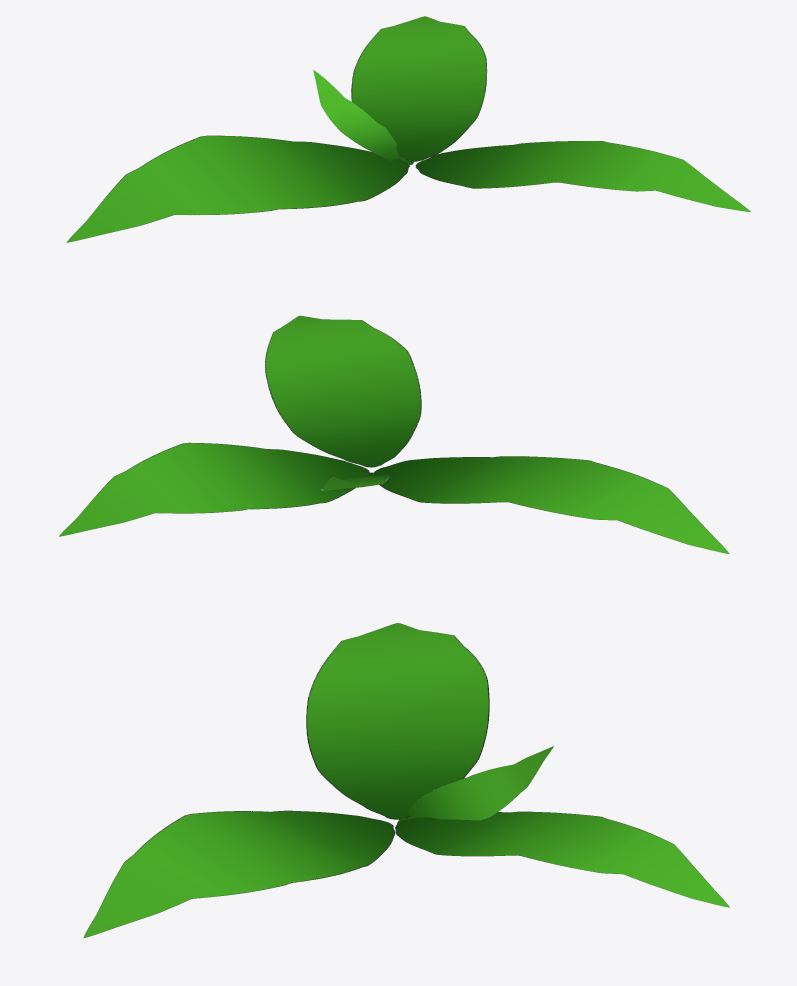
File: Grass2.fbx
3 renders of one model, top to bottom at view 1: azimuth 30°, elevation 25°; view 2: azimuth 150°, elevation 25°; view 3: azimuth 270°, elevation 25°, orthographic. The views are drawn at different scales.
Visible parts, largest first — view 1: grass2, grass2.001, grass2.002, grass2.003; view 2: grass2.002, grass2, grass2.001, grass2.003; view 3: grass2, grass2.002, grass2.001, grass2.003.
Boxes of the visible parts, x1=… form: grass2: x1=66, y1=135, x2=409, y2=242; grass2.001: x1=351, y1=16, x2=487, y2=161; grass2.002: x1=415, y1=141, x2=750, y2=211; grass2.003: x1=313, y1=70, x2=413, y2=164; grass2.002: x1=265, y1=315, x2=421, y2=467; grass2: x1=373, y1=456, x2=729, y2=553; grass2.001: x1=59, y1=442, x2=369, y2=536; grass2.003: x1=321, y1=472, x2=389, y2=490; grass2: x1=306, y1=623, x2=489, y2=819; grass2.002: x1=83, y1=810, x2=395, y2=938; grass2.001: x1=395, y1=811, x2=729, y2=907; grass2.003: x1=397, y1=746, x2=553, y2=823.
Size of the model in its own units: 113 by 10.92 by 106.
